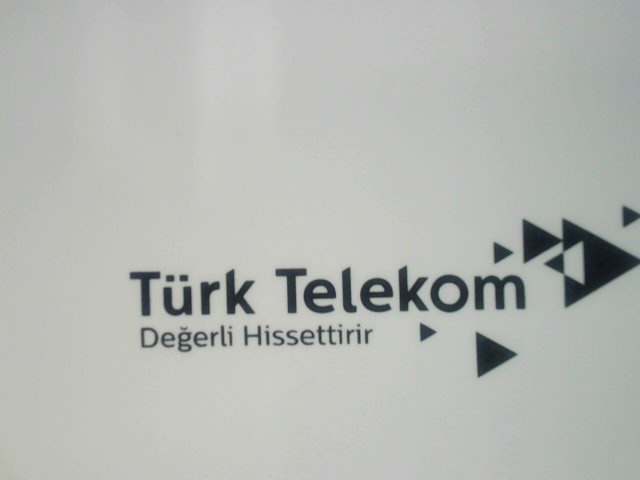AQ_TURKTelekom: (129, 206, 639, 397)
